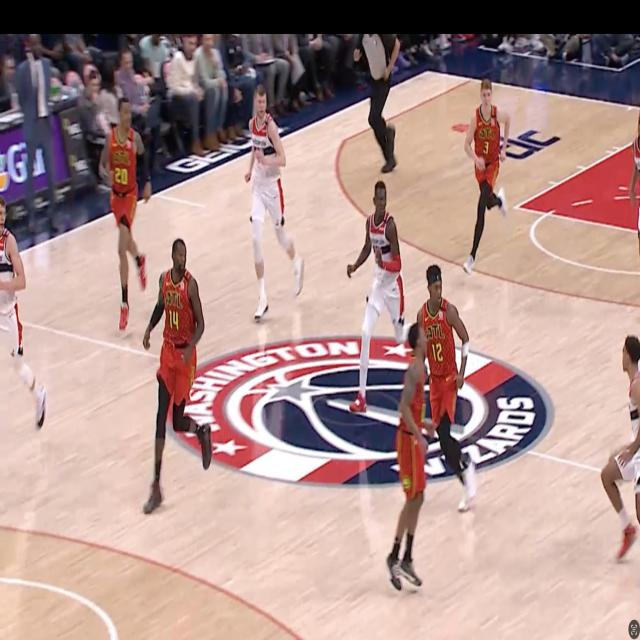no foul: (94, 94, 317, 526), (382, 260, 507, 611)
